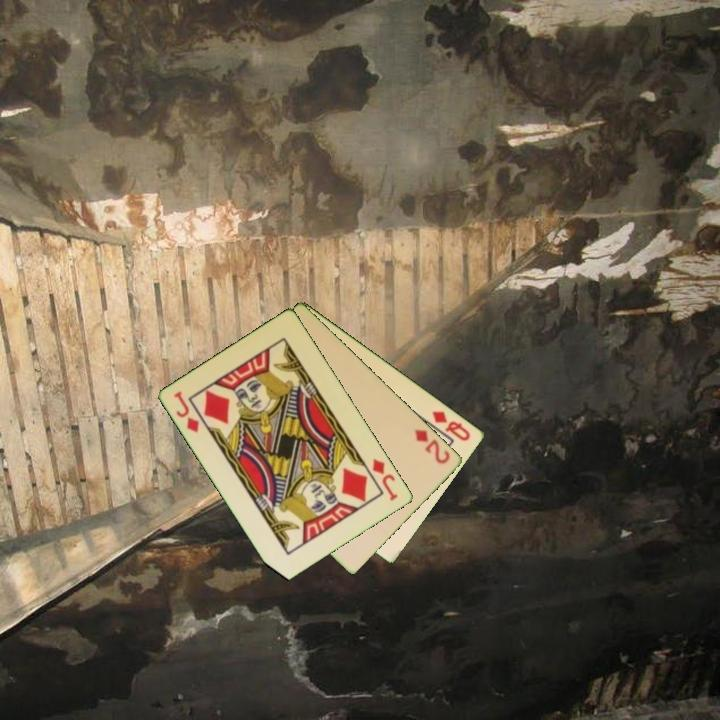2d: (411, 426, 453, 467)
Jd: (369, 455, 401, 504), (170, 387, 202, 436)
Qd: (429, 407, 474, 444)
